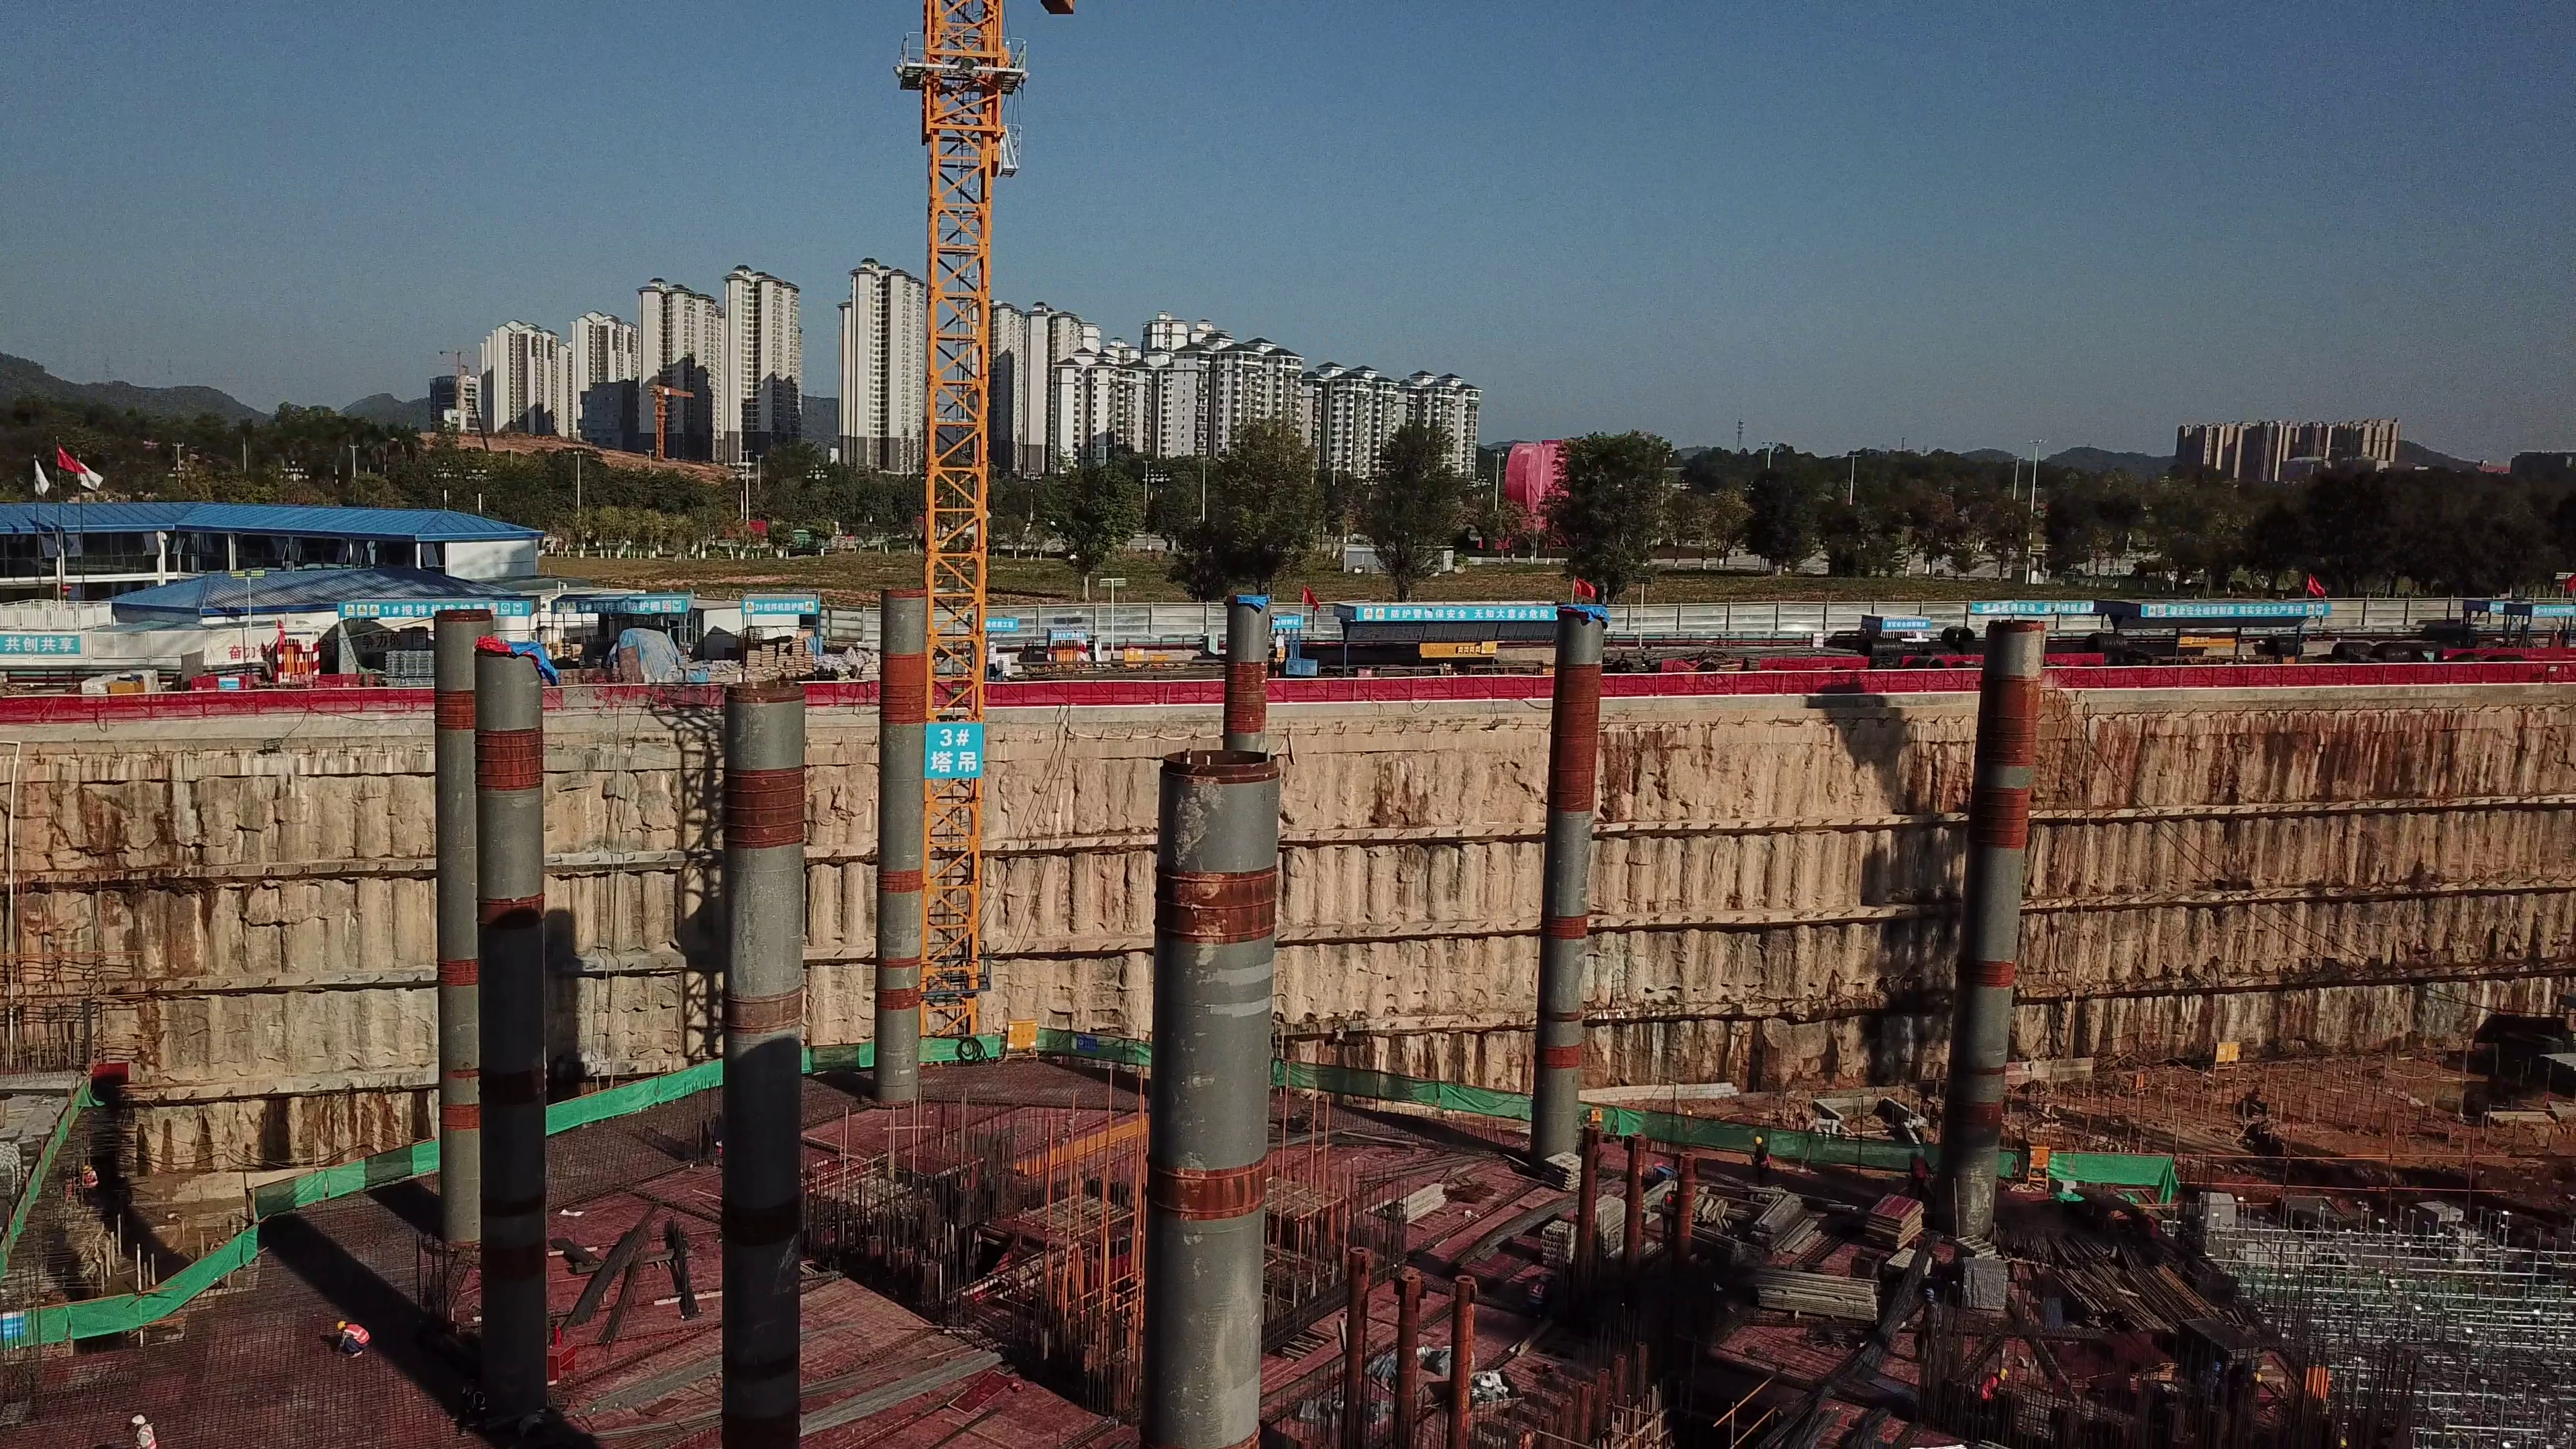board: (1872, 1193, 1925, 1252)
ebox: (1002, 1017, 1044, 1069), (2026, 1144, 2051, 1187), (2214, 1040, 2238, 1065)
fence: (1017, 671, 1571, 700)
helmet: (1997, 1370, 2012, 1384), (2212, 1361, 2227, 1373), (80, 1165, 96, 1175), (1923, 1288, 1937, 1298), (1752, 1134, 1764, 1144), (133, 1417, 143, 1427), (337, 1320, 344, 1328)
person: (1970, 1358, 2016, 1430), (1913, 1285, 1953, 1364), (331, 1313, 374, 1363), (2201, 1356, 2225, 1425), (74, 1159, 103, 1197), (1746, 1130, 1775, 1168), (131, 1411, 158, 1449), (708, 1135, 728, 1167)
rebar: (1615, 643, 1851, 665), (1060, 655, 1224, 684)
slogan: (1361, 606, 1594, 624), (356, 592, 532, 618), (2145, 601, 2290, 628), (923, 722, 986, 780), (561, 592, 688, 615), (1, 625, 79, 661), (1976, 602, 2096, 621), (743, 598, 805, 616), (1881, 615, 1938, 632), (981, 615, 1016, 638), (1263, 612, 1299, 627)
vest: (1922, 1303, 1941, 1335), (345, 1320, 370, 1345), (2206, 1375, 2222, 1408), (1980, 1377, 1999, 1403), (138, 1426, 157, 1445), (1752, 1148, 1777, 1161), (83, 1173, 101, 1189)
wood: (1754, 1263, 1878, 1325)
